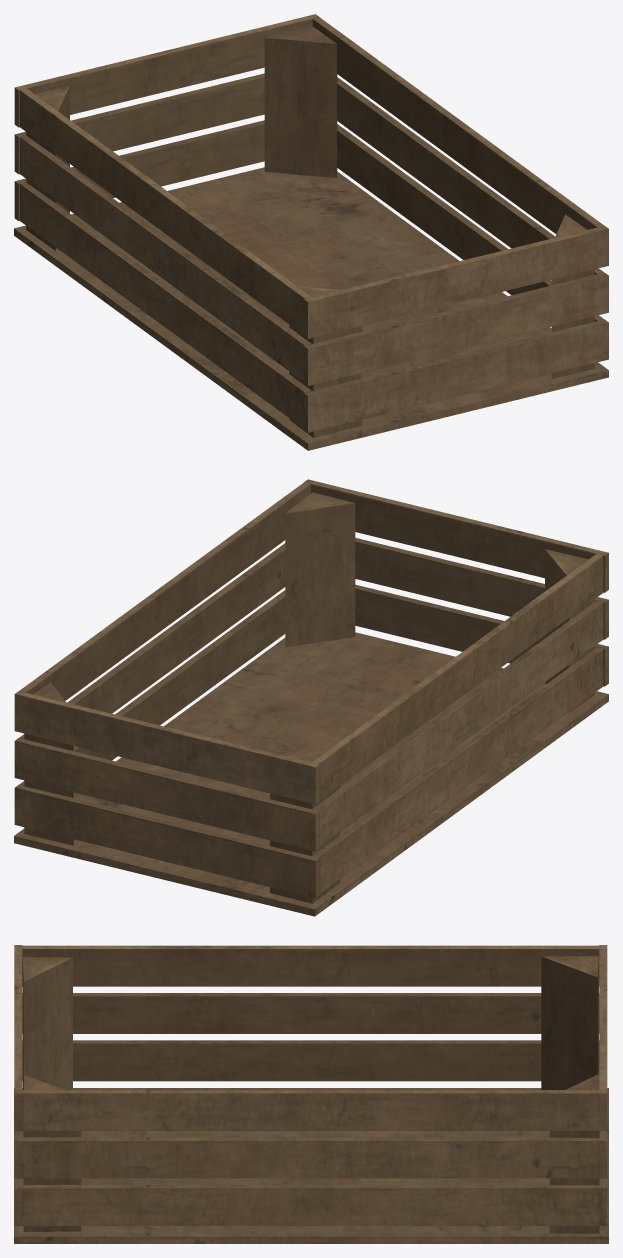
The model's file is SM_Wooden_Box_05.fbx.
The picture shows the model from 3 angles, top to bottom: view 1: azimuth 30°, elevation 25°; view 2: azimuth 150°, elevation 25°; view 3: azimuth 270°, elevation 25°; orthographic projection.
Parts seen in each view (by area): view 1: SM_Wooden_Box_05; view 2: SM_Wooden_Box_05; view 3: SM_Wooden_Box_05.
Part boxes in pixels (left/top/right/bottom): SM_Wooden_Box_05: left=14, top=14, right=608, bottom=450; SM_Wooden_Box_05: left=14, top=479, right=608, bottom=916; SM_Wooden_Box_05: left=14, top=945, right=608, bottom=1243.
Bounding box in the file's own units: 47.52 × 80.44 × 22.44.
1 material, 1 textured.
